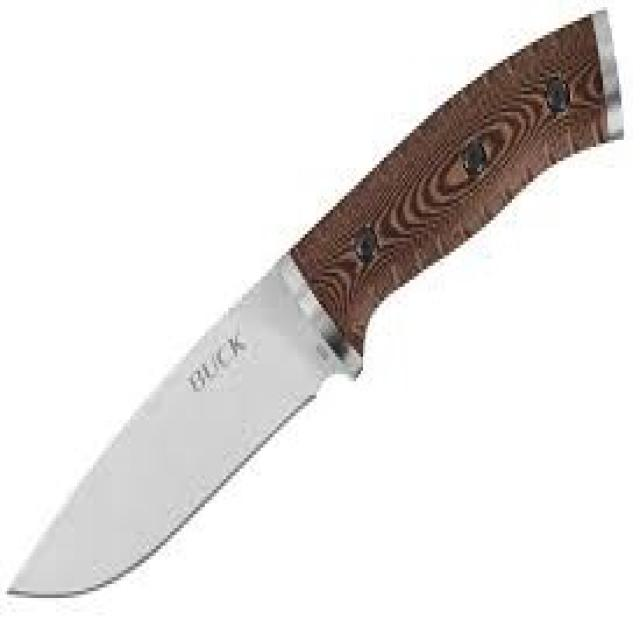knife: (6, 4, 628, 601)
